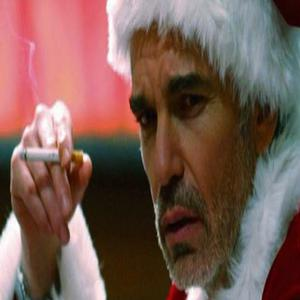cigarette: (16, 146, 96, 168)
